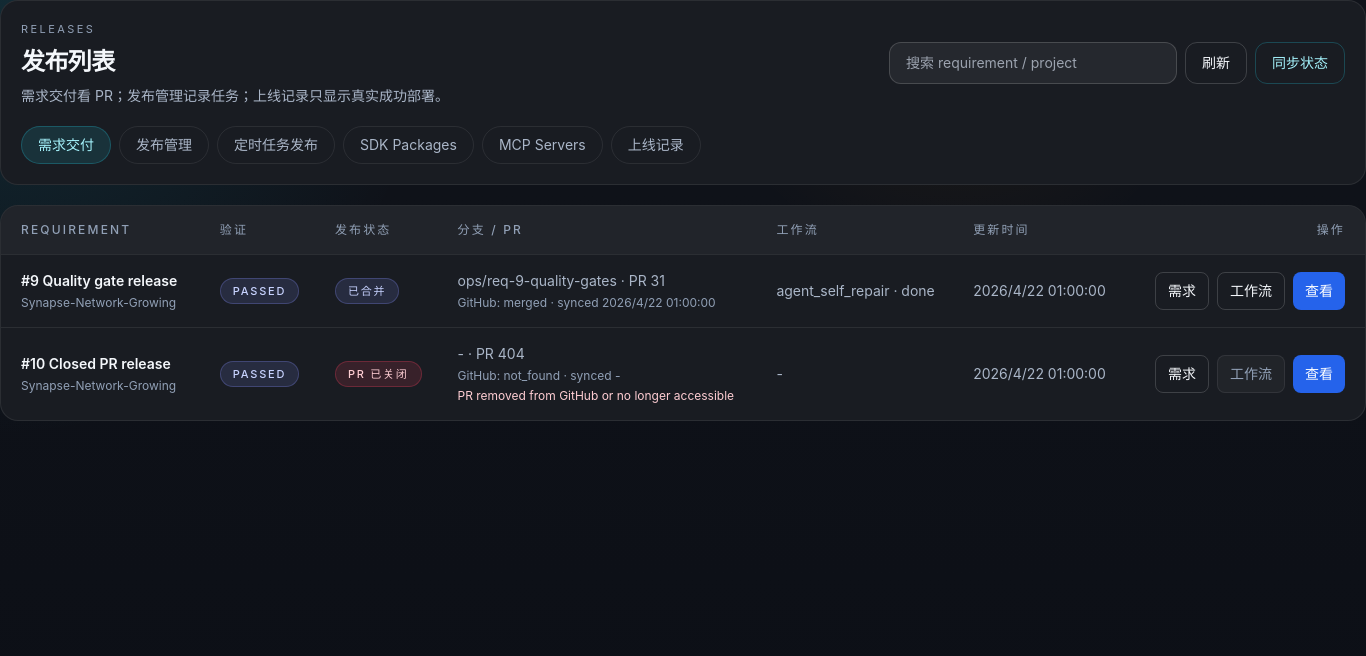
Scenario: ReleasesPage › shows production safety copy and marks requested task failed
This screenshot has width=1366, height=656.
Click the button "发布管理" at (164, 144), box 119,126 -> 209,164
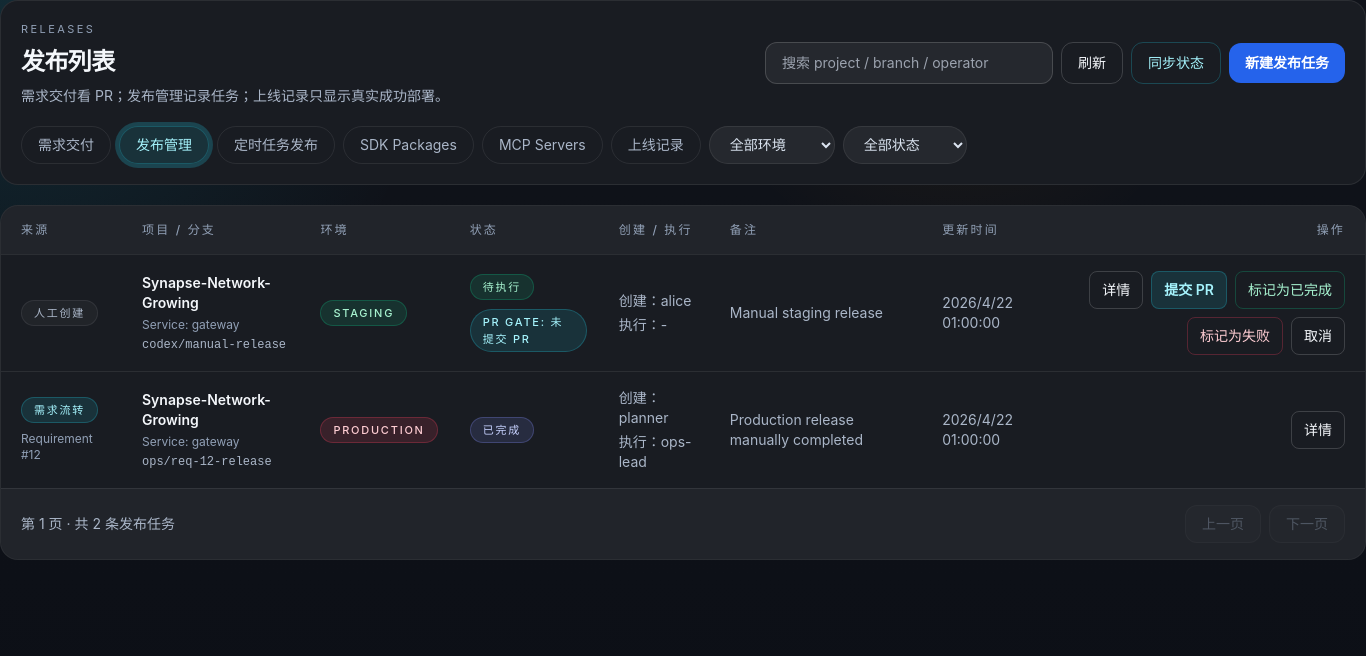
Click the button "新建发布任务" at (1287, 63), box 1229,43 -> 1345,83
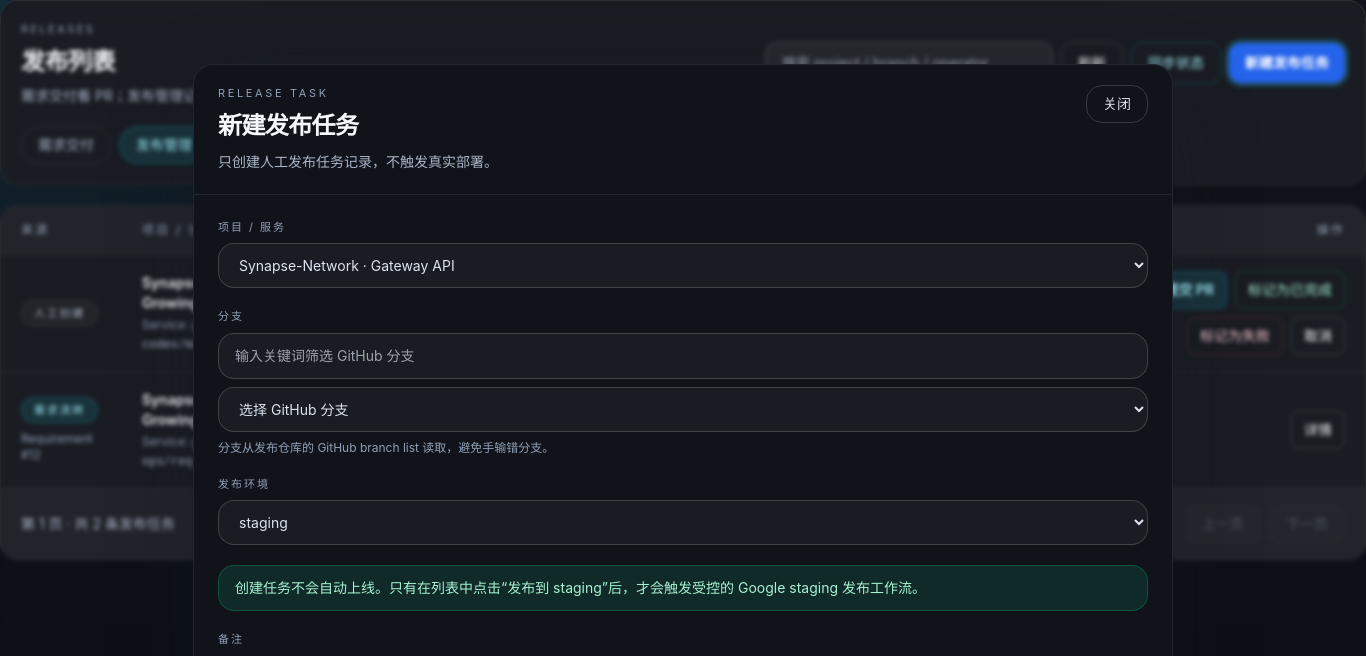
Select "production" in the dropdown labelled "发布环境" at (683, 523), box 218,500 -> 1148,545
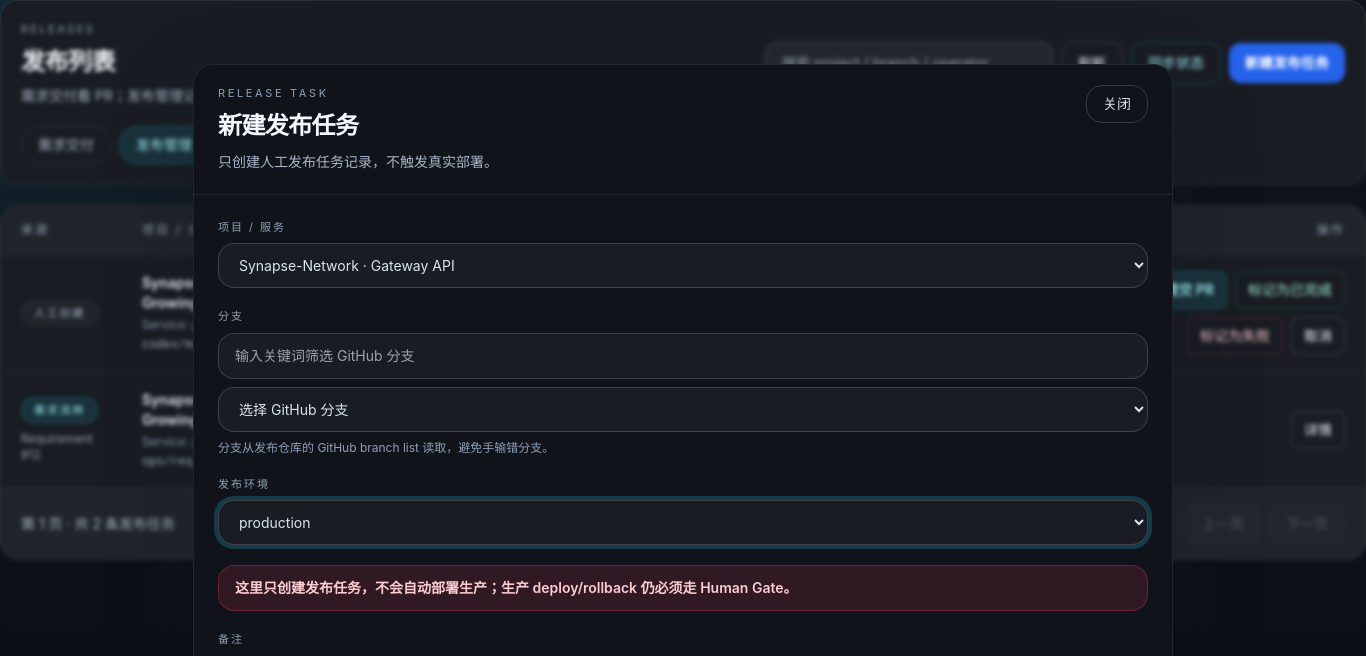
Result: the text "这里只创建发布任务，不会自动部署生产；生产 deploy/rollback 仍必须走 Human Gate。" is shown at 218,565 -> 1148,611
Click the button "关闭" at (1117, 104), box 1086,85 -> 1148,123
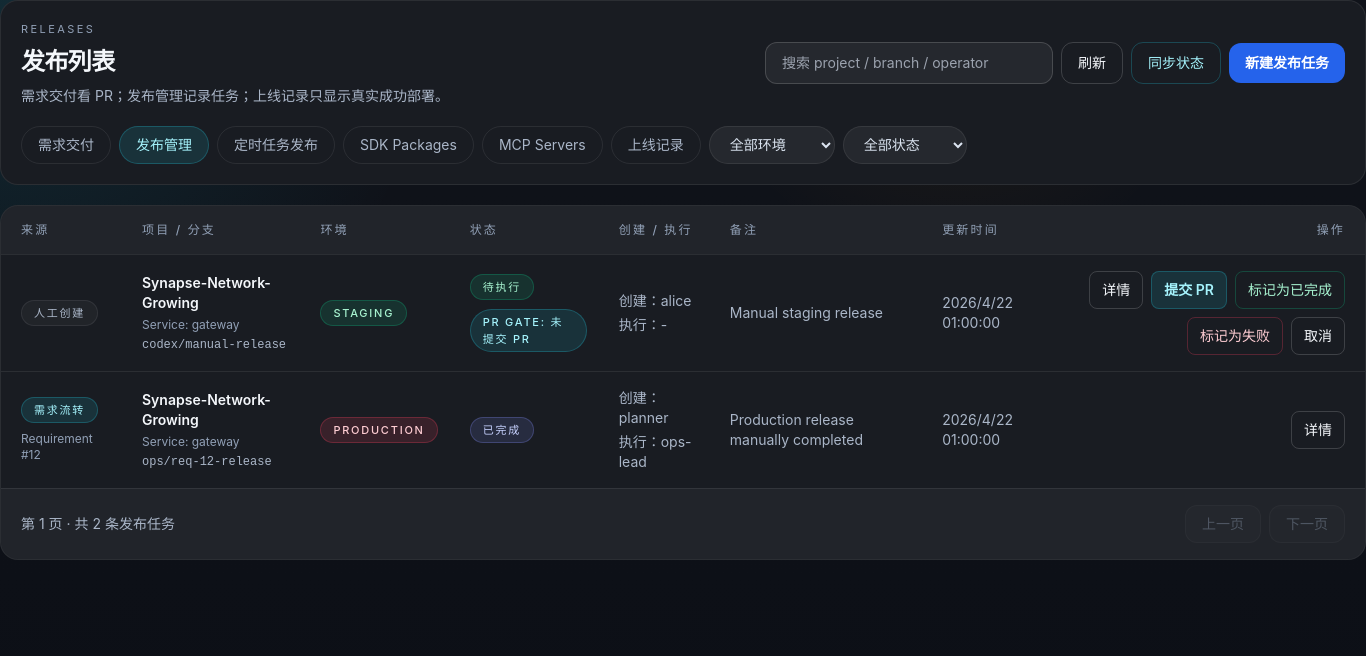
Click the button "标记为失败" at (1235, 336), box 1187,316 -> 1283,354
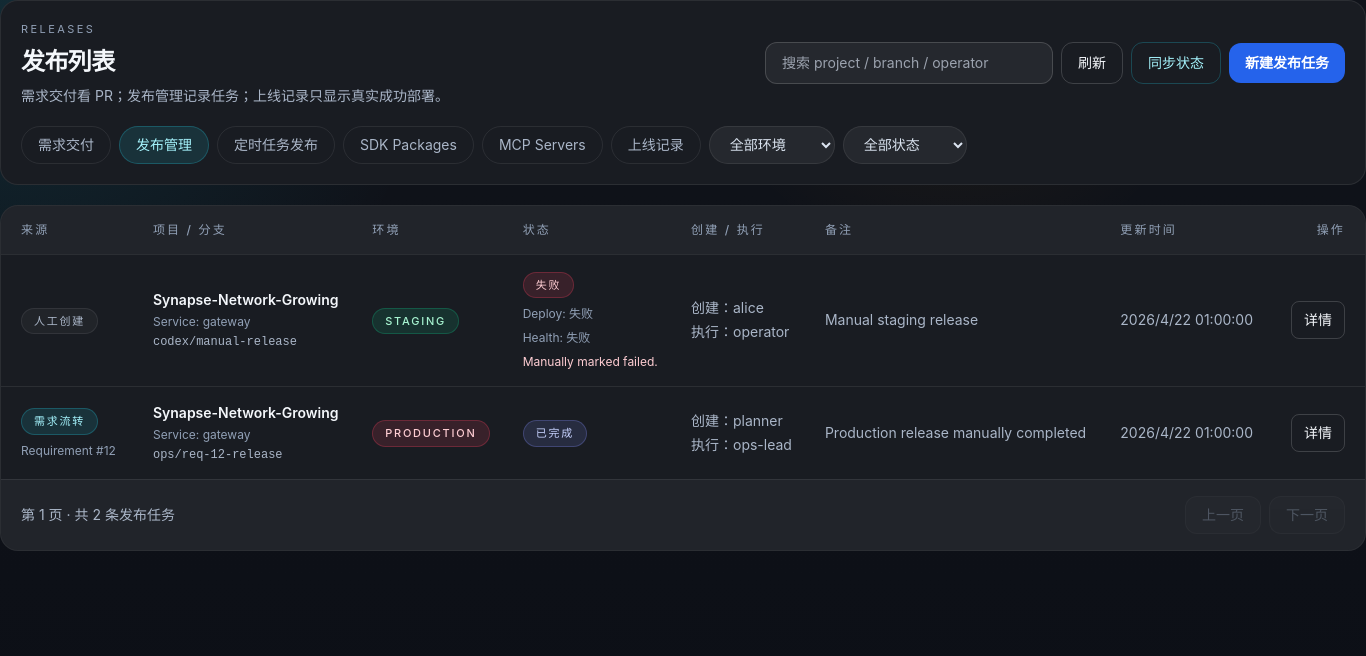
Result: the text "Deploy: 失败" is shown at 523,306 -> 593,321
